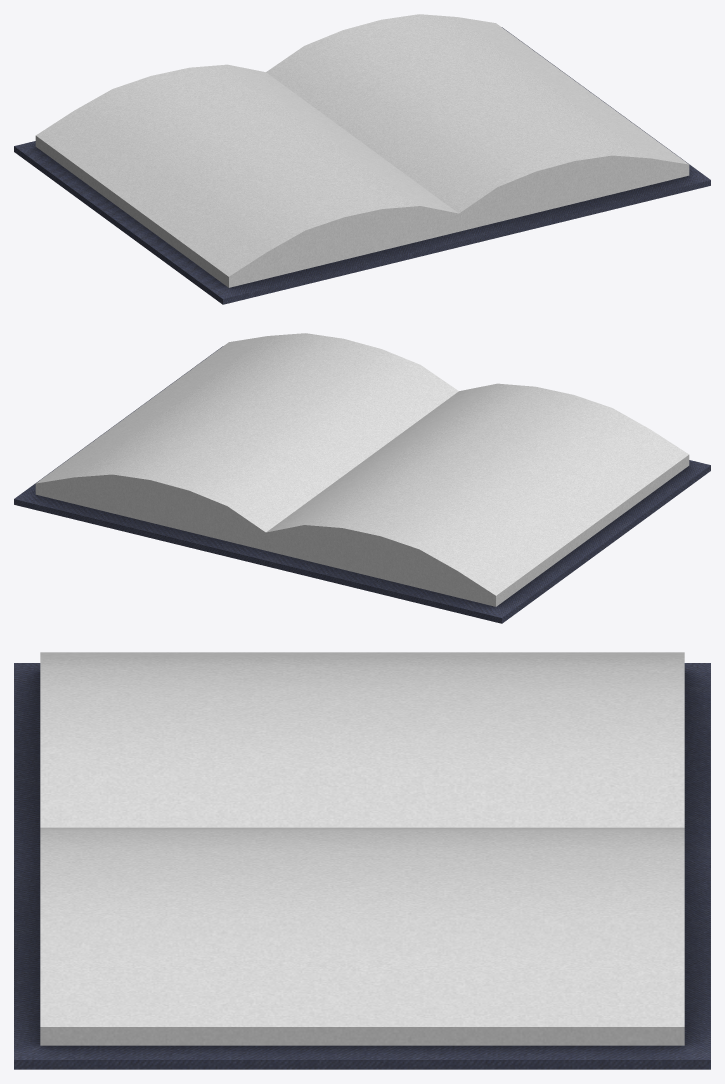
File: Biblioteca_LibroGenerico_005.fbx
3 renders of one model, top to bottom at view 1: azimuth 30°, elevation 25°; view 2: azimuth 150°, elevation 25°; view 3: azimuth 270°, elevation 25°, orthographic. The views are drawn at different scales.
Visible parts, largest first — view 1: Biblioteca_LibroGenerico.005; view 2: Biblioteca_LibroGenerico.005; view 3: Biblioteca_LibroGenerico.005.
Boxes of the visible parts, x1,y1,x2,y2 form: Biblioteca_LibroGenerico.005: [14, 14, 710, 304]; Biblioteca_LibroGenerico.005: [14, 333, 710, 623]; Biblioteca_LibroGenerico.005: [14, 652, 710, 1069].
Bounding box in the file's own units: 41.52 × 4.09 × 30.79.
